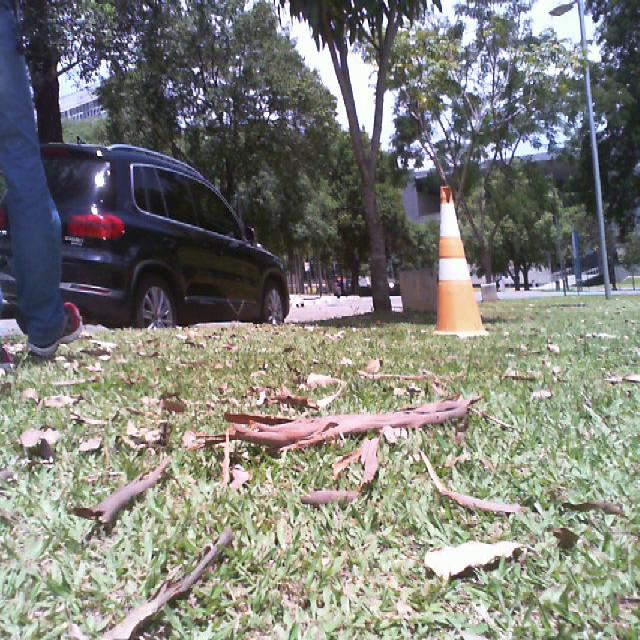cone: (434, 185, 488, 335)
